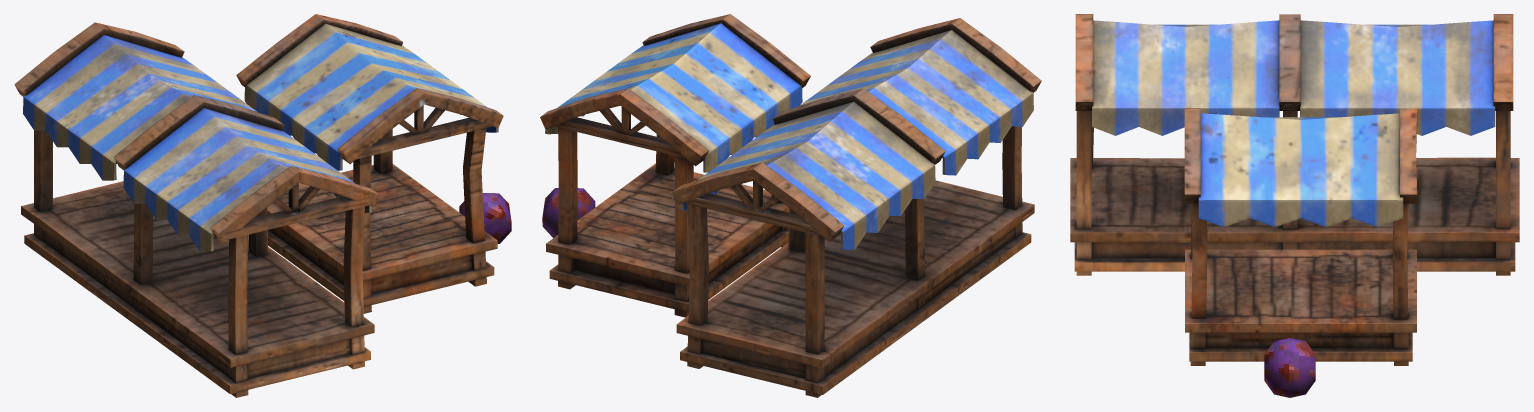
Rendered from GorillaTagStoreFrontAssets.fbx.
The picture shows the model from 3 angles, left to right: view 1: azimuth 30°, elevation 25°; view 2: azimuth 150°, elevation 25°; view 3: azimuth 270°, elevation 25°; orthographic projection. The views are drawn at different scales.
Visible parts, largest first — view 1: StoreFrontLarge, StorefrontSmall, StoreFrontFruit; view 2: StoreFrontLarge, StorefrontSmall, StoreFrontFruit; view 3: StoreFrontLarge, StorefrontSmall, StoreFrontFruit.
Boxes of the visible parts, x1,y1,x2,y2 form: StoreFrontLarge: [14, 22, 379, 397]; StorefrontSmall: [236, 14, 503, 313]; StoreFrontFruit: [459, 193, 511, 243]; StoreFrontLarge: [672, 18, 1041, 397]; StorefrontSmall: [540, 14, 810, 317]; StoreFrontFruit: [542, 188, 595, 237]; StoreFrontLarge: [1070, 14, 1519, 275]; StorefrontSmall: [1184, 108, 1417, 365]; StoreFrontFruit: [1264, 337, 1315, 397].
Size of the model in its own units: 390 by 206 by 362.
